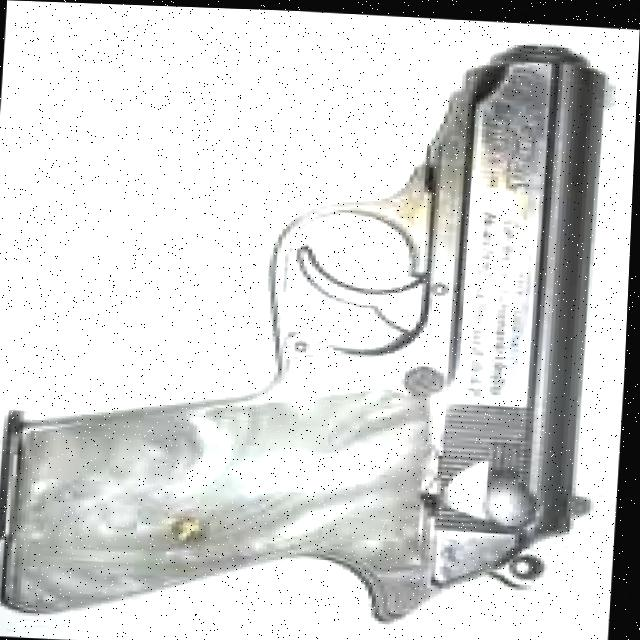pistol: (3, 16, 622, 638)
